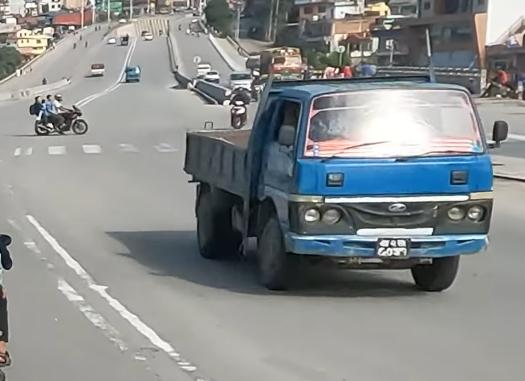bike: (26, 91, 100, 138)
car: (200, 66, 218, 79)
micro_bus: (90, 59, 105, 78)
mini_truck: (183, 65, 507, 303), (121, 60, 144, 87)
scooter: (224, 79, 246, 129)
